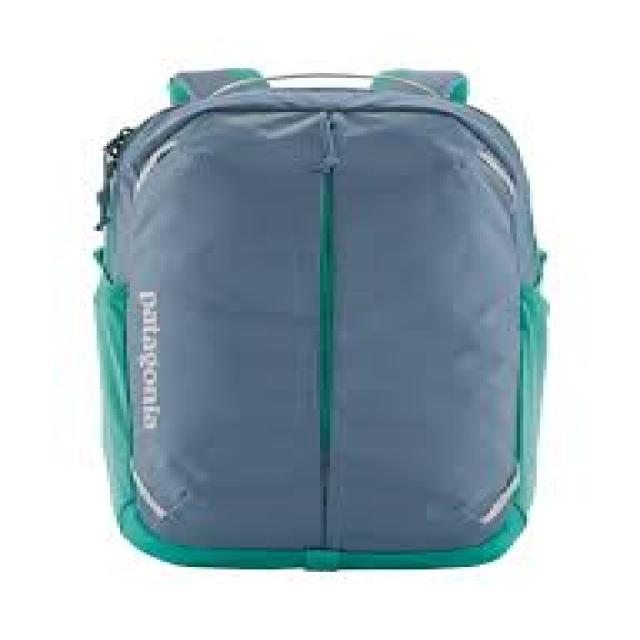backpack: (90, 66, 550, 569)
